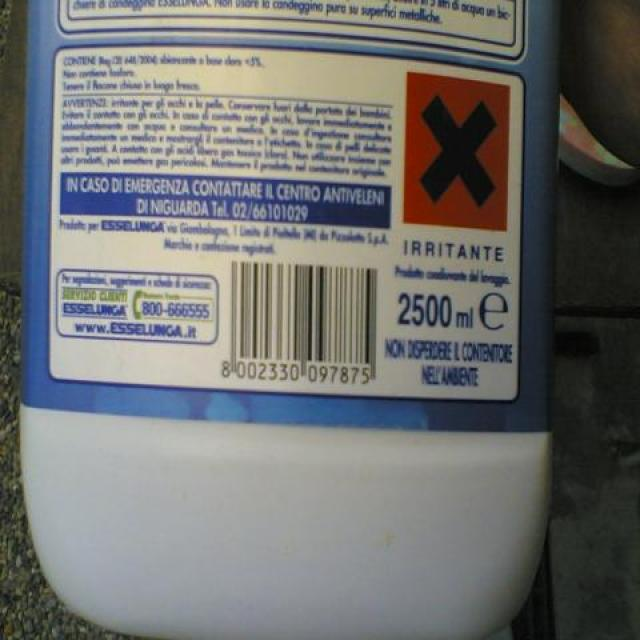Barcode: (219, 254, 381, 389)
